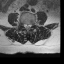CCS_normal: (26, 22, 28, 31)
LFS_normal: (31, 21, 33, 27)
LLS_normal: (28, 22, 30, 30)
RFS_normal: (22, 21, 24, 28)
RLS_normal: (24, 22, 26, 30)
